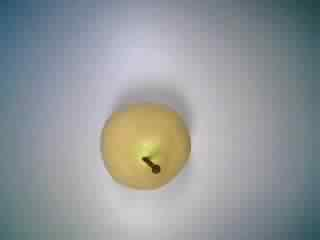pear: (88, 96, 198, 199)
